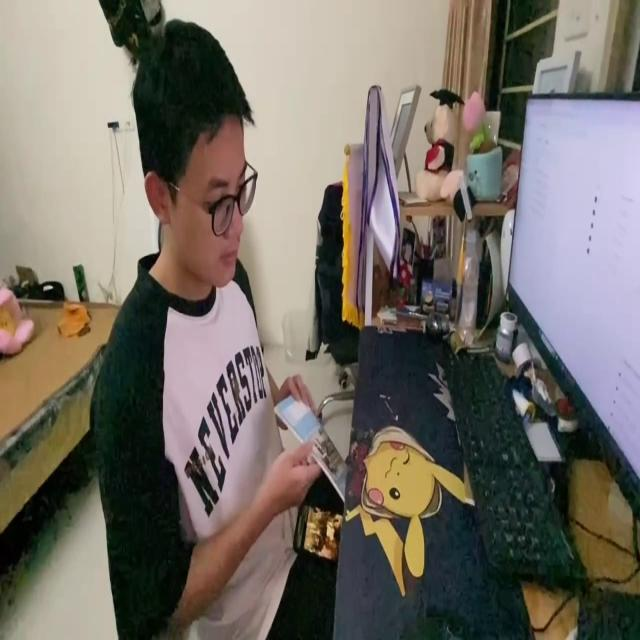book: (273, 385, 346, 505)
laptop: (505, 88, 640, 519)
phone: (292, 501, 343, 563)
student: (86, 14, 336, 640)
